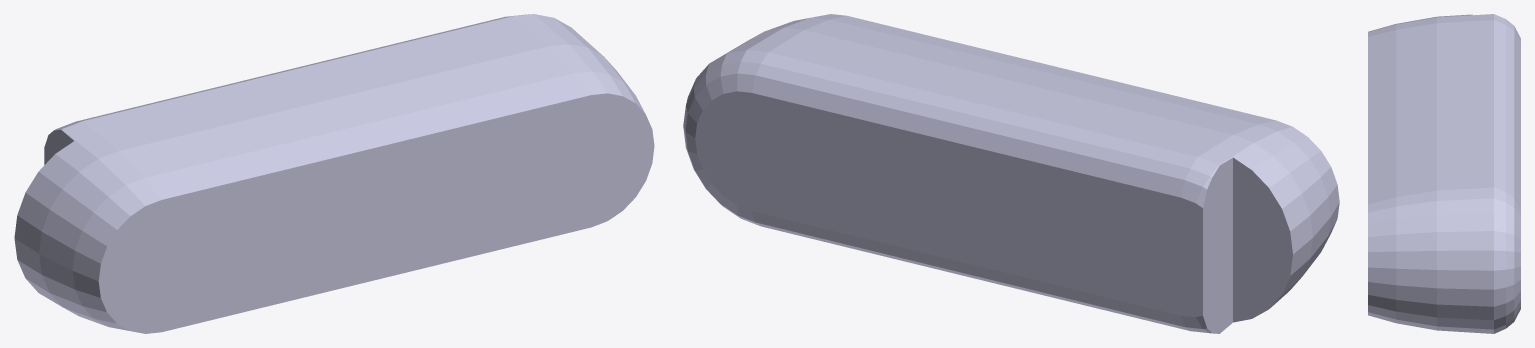
File: krytn_tray_ex_realsense.dae.dae
3 views of the same model, side by side, from view 1: azimuth 30°, elevation 25°; view 2: azimuth 150°, elevation 25°; view 3: azimuth 270°, elevation 25° (orthographic). The views are drawn at different scales.
Parts seen in each view (by area): view 1: node0; view 2: node0; view 3: node0.
Boxes of the visible parts, x1,y1,x2,y2 form: node0: (14,14,654,333); node0: (683,14,1339,333); node0: (1368,14,1520,333).
Size of the model in its own units: 0.0901 by 0.0251 by 0.0253.
